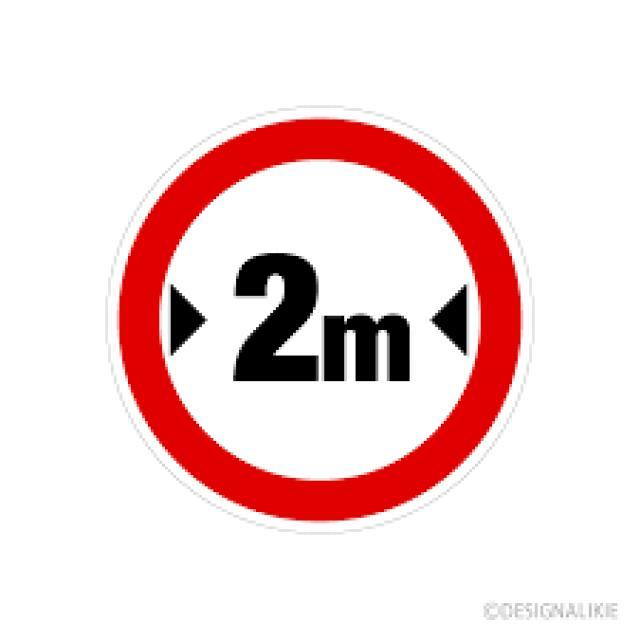width limit: (111, 107, 528, 537)
